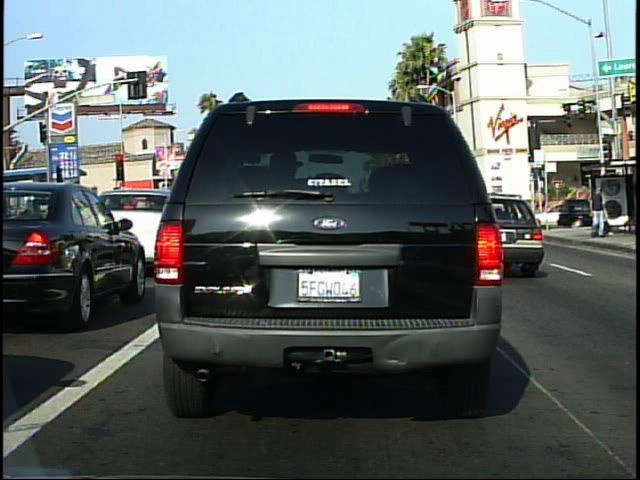person: (588, 185, 609, 242), (596, 184, 615, 241)
